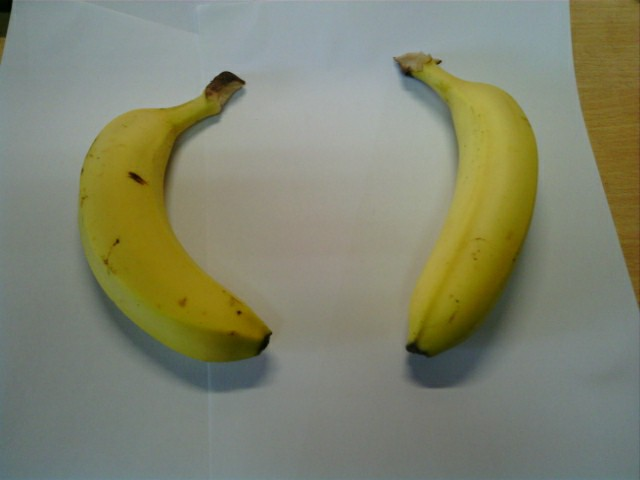fresh_banana: (391, 49, 539, 358)
normal_banana: (78, 73, 271, 361)
